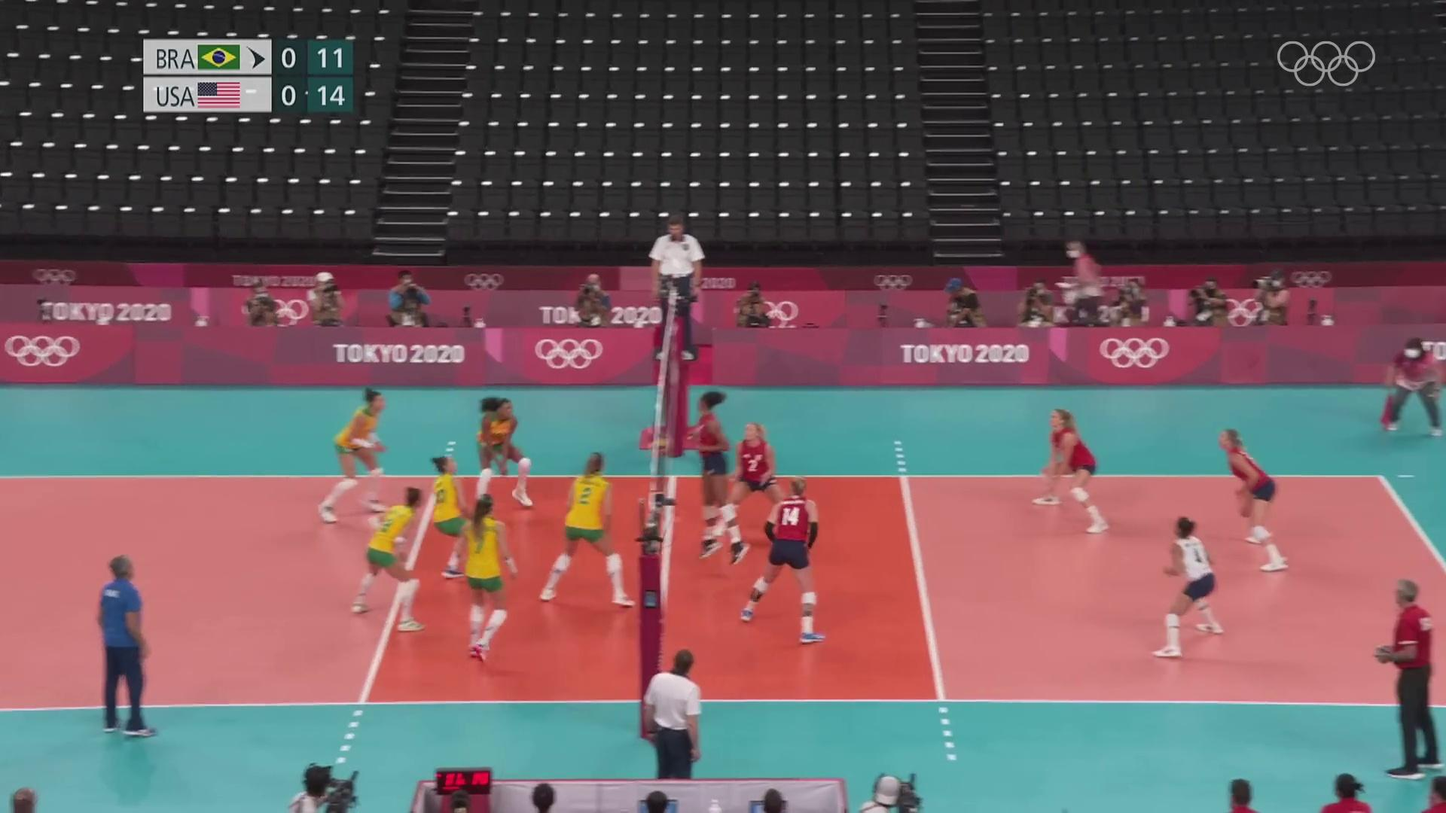player: (539, 447, 629, 609), (741, 477, 824, 644), (349, 486, 431, 636), (1150, 511, 1227, 658), (725, 421, 809, 553), (687, 391, 749, 566), (1215, 425, 1287, 573), (1027, 407, 1110, 535), (456, 496, 517, 664), (316, 389, 389, 523), (467, 400, 533, 513), (428, 455, 480, 579)
refree: (644, 649, 708, 787), (650, 218, 705, 361), (1381, 336, 1446, 435)
